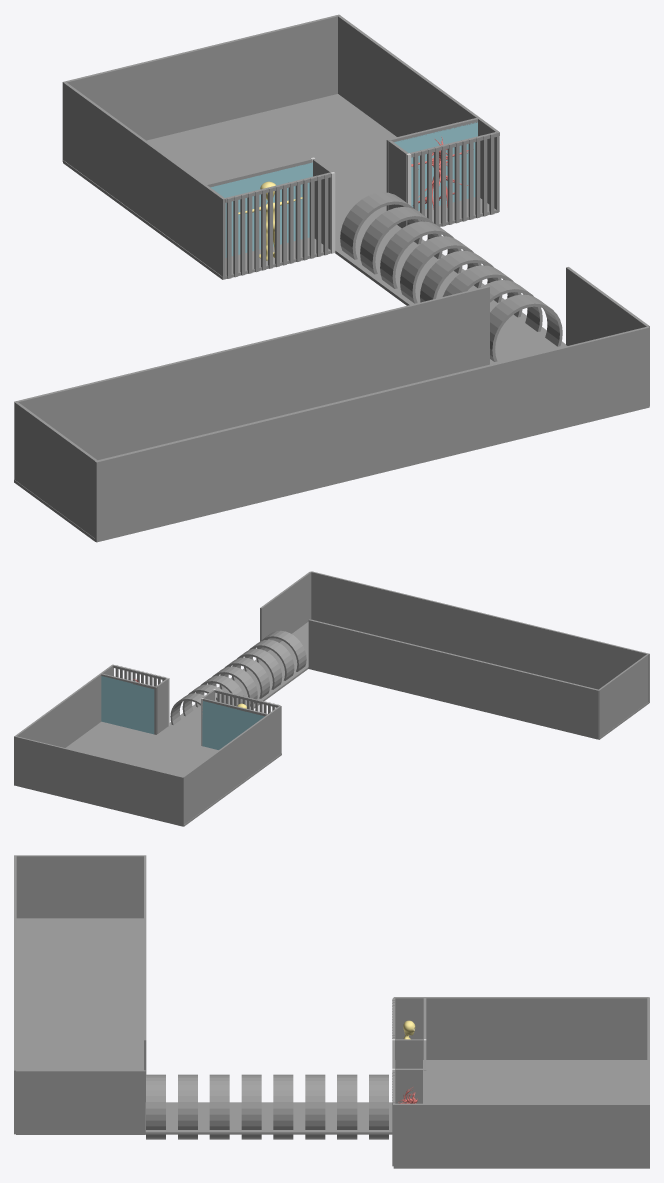
File: Area51.fbx
3 renders of one model, top to bottom at view 1: azimuth 30°, elevation 25°; view 2: azimuth 150°, elevation 25°; view 3: azimuth 270°, elevation 25°, orthographic. The views are drawn at different scales.
Visible parts, largest first — view 1: Cube.047, Cube.048, Cube.004, Cube, Cube.005, Cube.003, Cube.046, Cube.001, Cube.045, Cube.041, Cube.042, Cylinder.007 (+10 smaller); view 2: Cube.047, Cube.048, Cube.004, Cube, Cube.005, Cube.003, Cube.042, Cube.046, Cube.045, Cube.041, Cube.001, Cube.002 (+8 smaller); view 3: Cube.002, Cube.003, Cube.005, Cube, Cube.045, Cube.046, Cube.001, Cylinder.001, Cylinder.002, Cylinder.003, Cylinder.004, Cylinder.005 (+8 smaller).
Part boxes in pixels (left/top/right/bottom): Cube.047: left=95, top=326, right=649, bottom=542; Cube.048: left=14, top=286, right=489, bottom=460; Cube.004: left=62, top=14, right=339, bottom=161; Cube: left=63, top=94, right=498, bottom=279; Cube.005: left=63, top=82, right=225, bottom=278; Cube.003: left=337, top=15, right=499, bottom=211; Cube.046: left=14, top=402, right=97, bottom=538; Cube.001: left=335, top=235, right=565, bottom=363; Cube.045: left=566, top=267, right=649, bottom=405; Cube.041: left=210, top=162, right=312, bottom=257; Cube.042: left=394, top=122, right=477, bottom=210; Cylinder.007: left=490, top=294, right=562, bottom=361; Cube.047: left=311, top=571, right=649, bottom=702; Cube.048: left=308, top=619, right=599, bottom=739; Cube.004: left=14, top=736, right=183, bottom=826; Cube: left=66, top=721, right=281, bottom=826; Cube.005: left=183, top=705, right=281, bottom=824; Cube.003: left=15, top=664, right=113, bottom=747; Cube.042: left=101, top=676, right=154, bottom=734; Cube.046: left=598, top=654, right=648, bottom=739; Cube.045: left=260, top=571, right=311, bottom=651; Cube.041: left=202, top=701, right=264, bottom=749; Cube.001: left=169, top=658, right=308, bottom=733; Cube.002: left=267, top=619, right=649, bottom=739; Cube.002: left=16, top=918, right=143, bottom=1070; Cube.003: left=393, top=1103, right=648, bottom=1168; Cube.005: left=393, top=997, right=648, bottom=1059; Cube: left=395, top=1060, right=647, bottom=1103; Cube.045: left=16, top=1070, right=145, bottom=1134; Cube.046: left=16, top=855, right=143, bottom=918; Cube.001: left=145, top=1102, right=392, bottom=1134; Cylinder.001: left=337, top=1074, right=357, bottom=1139; Cylinder.002: left=305, top=1074, right=325, bottom=1139; Cylinder.003: left=273, top=1074, right=293, bottom=1139; Cylinder.004: left=241, top=1074, right=261, bottom=1139; Cylinder.005: left=209, top=1074, right=229, bottom=1139.
Size of the model in its own units: 4637 by 703 by 4991.
